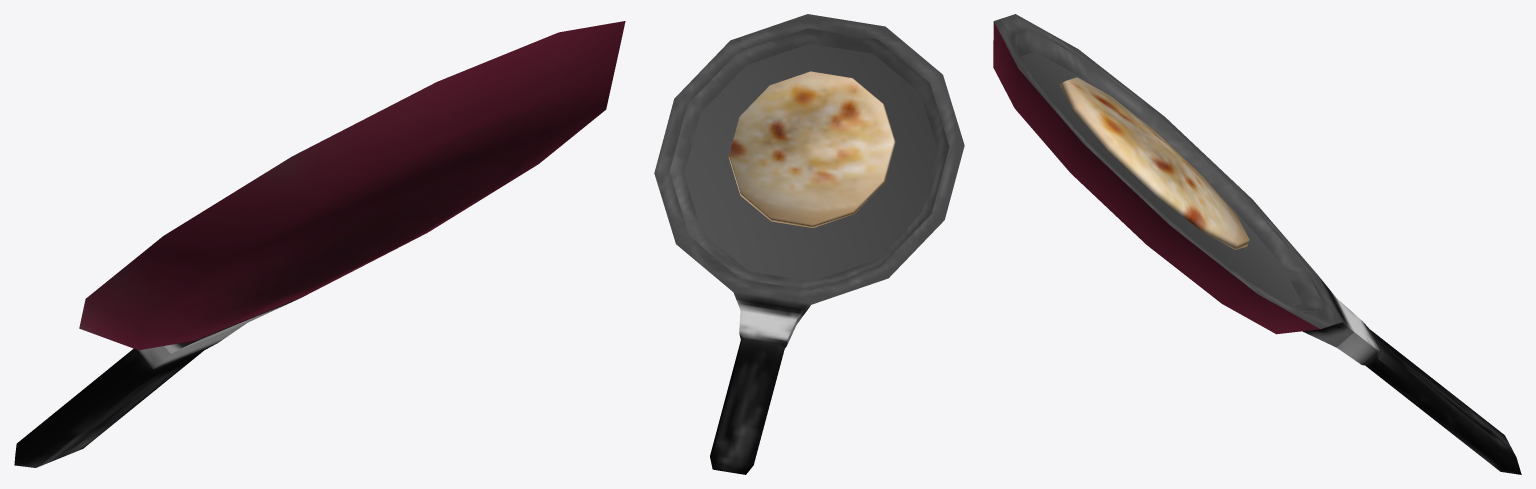
Rendered from C_FryingPanFlatFoodSmall.fbx.
3 views of the same model, side by side, from view 1: azimuth 30°, elevation 25°; view 2: azimuth 150°, elevation 25°; view 3: azimuth 270°, elevation 25° (orthographic). The views are drawn at different scales.
Parts seen in each view (by area): view 1: fryingpan_fullsmall; view 2: fryingpan_fullsmall; view 3: fryingpan_fullsmall.
Boxes of the visible parts, x1=… form: fryingpan_fullsmall: x1=14, y1=21, x2=625, y2=467; fryingpan_fullsmall: x1=654, y1=14, x2=964, y2=474; fryingpan_fullsmall: x1=993, y1=14, x2=1521, y2=474.
Size of the model in its own units: 40.98 by 45.63 by 47.32.
